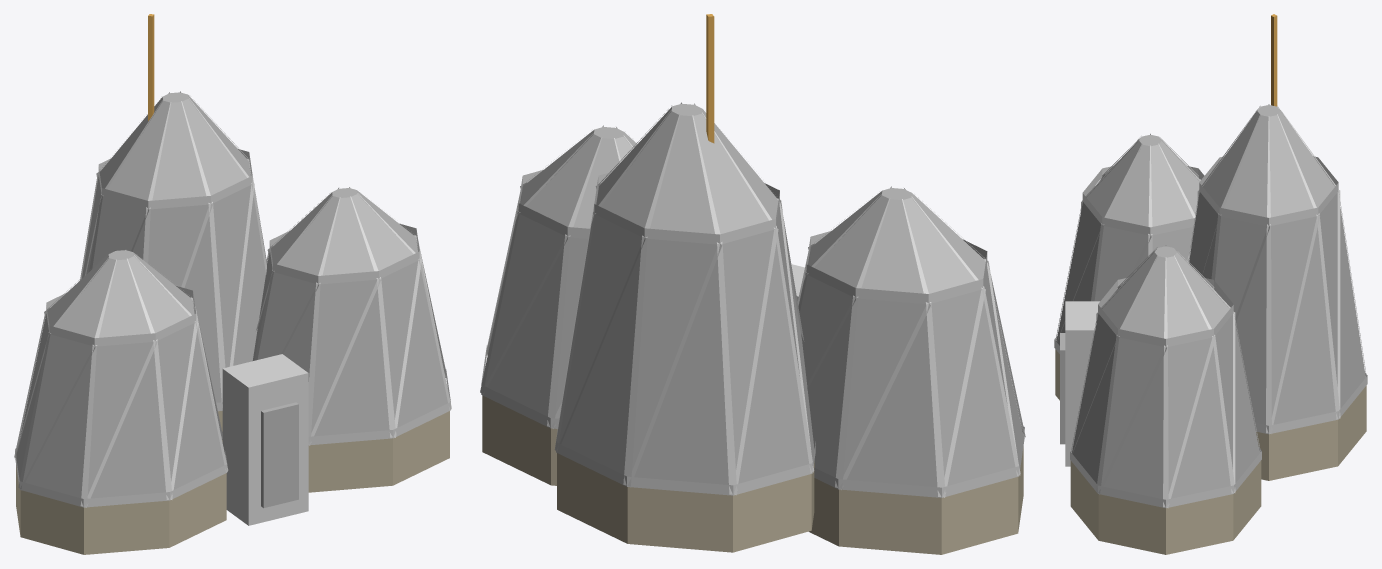
The model's file is space_town.glb.
The picture shows the model from 3 angles, left to right: view 1: azimuth 30°, elevation 25°; view 2: azimuth 150°, elevation 25°; view 3: azimuth 270°, elevation 25°; orthographic projection. The views are drawn at different scales.
Parts seen in each view (by area): view 1: FixedDetails, WoodBody, BrassTrim; view 2: FixedDetails, WoodBody, BrassTrim; view 3: FixedDetails, WoodBody, BrassTrim.
Part boxes in pixels (box(x1,y1,x2,y2)): FixedDetails: box(16, 92, 449, 554); WoodBody: box(14, 91, 451, 525); BrassTrim: box(148, 14, 154, 120); FixedDetails: box(482, 103, 1023, 554); WoodBody: box(480, 102, 1025, 497); BrassTrim: box(706, 14, 714, 143); FixedDetails: box(1055, 105, 1366, 554); WoodBody: box(1054, 104, 1367, 508); BrassTrim: box(1271, 14, 1277, 106).
Size of the model in its own units: 0.394 by 0.374 by 0.249.
